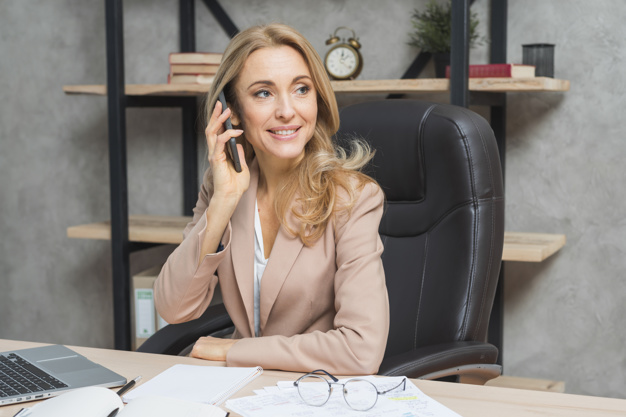phone: (204, 92, 253, 176)
talk: (205, 71, 319, 196)
